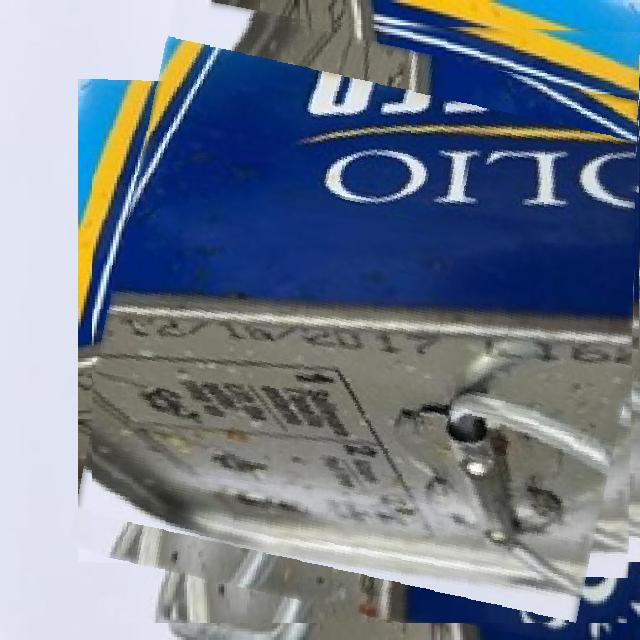recyclable: (92, 16, 640, 623)
